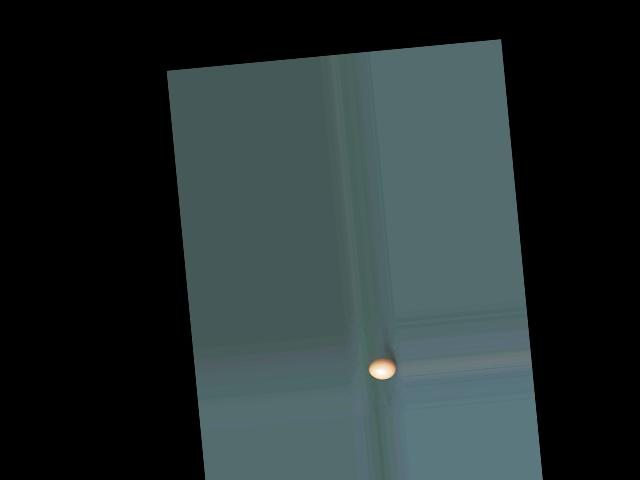egg: (368, 356, 397, 380)
